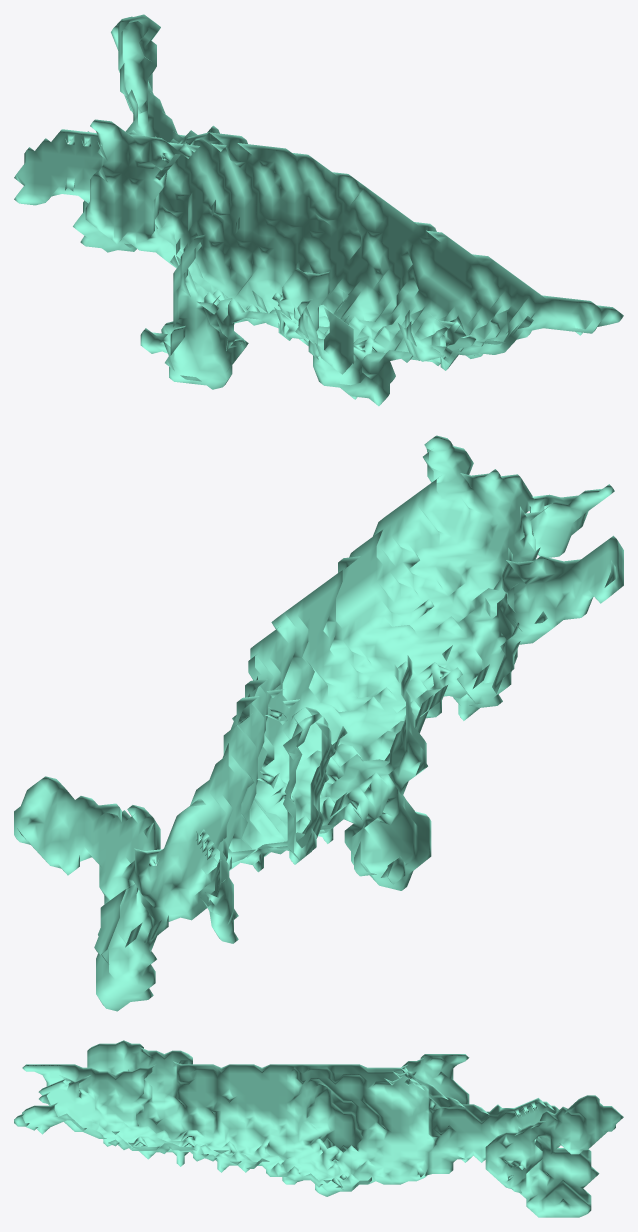
File: osteocyte_30.glb
3 views of the same model, one above another, from view 1: azimuth 30°, elevation 25°; view 2: azimuth 150°, elevation 25°; view 3: azimuth 270°, elevation 25° (orthographic). The views are drawn at different scales.
Parts seen in each view (by area): view 1: osteocyte_30; view 2: osteocyte_30; view 3: osteocyte_30.
Part boxes in pixels (bbox=[...]): osteocyte_30: bbox=[14, 14, 623, 406]; osteocyte_30: bbox=[14, 435, 623, 1011]; osteocyte_30: bbox=[14, 1040, 623, 1217].
Bounding box in the file's own units: 10.73 × 8.05 × 33.53.
